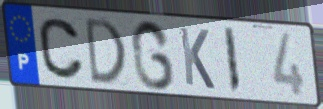4: (271, 31, 307, 100)
C: (37, 16, 87, 82)
D: (83, 15, 128, 87)
G: (129, 18, 177, 93)
I: (221, 26, 243, 96)
K: (177, 24, 217, 92)
